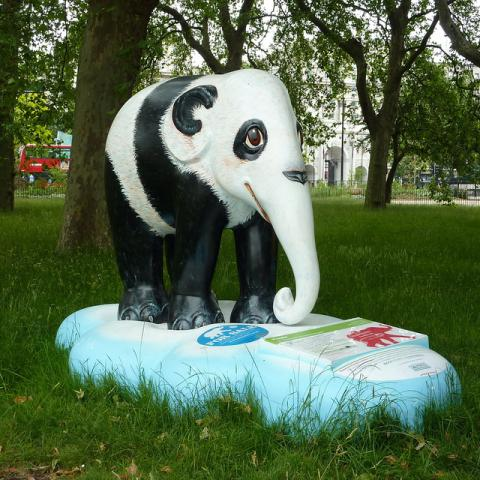bus: (10, 139, 70, 176)
